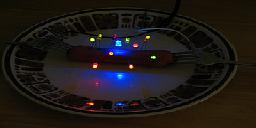LED: (112, 38, 124, 51), (87, 35, 99, 47), (125, 63, 137, 73), (142, 33, 152, 43), (90, 61, 98, 71), (151, 52, 158, 63), (131, 43, 140, 51)
